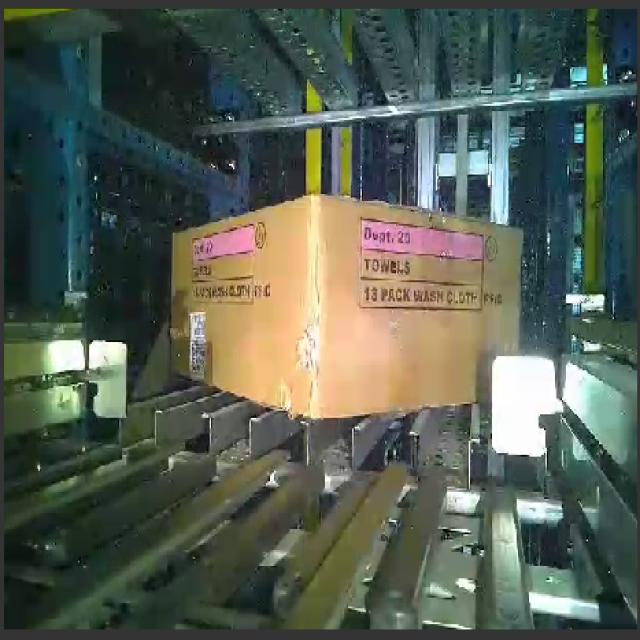box: (169, 193, 317, 421)
